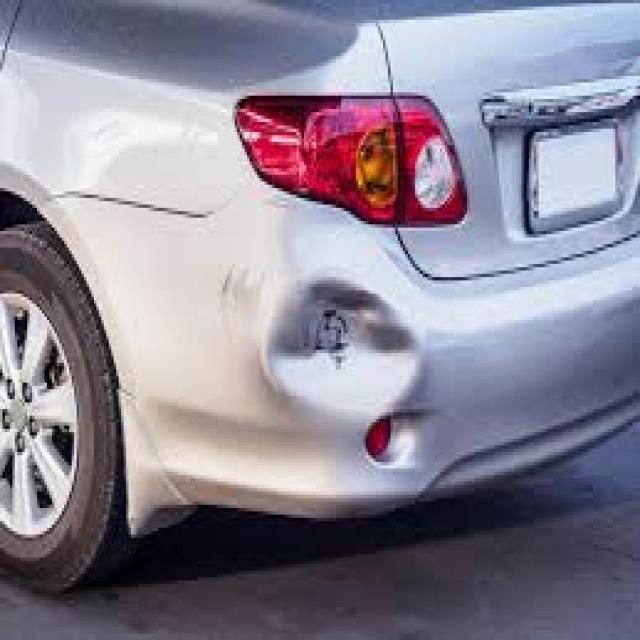minor: (239, 208, 473, 428)
